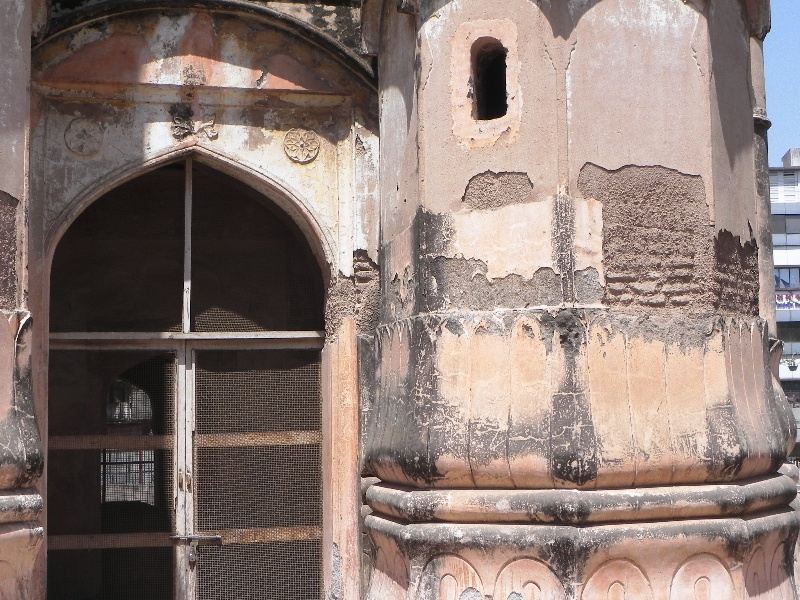Exposed Bricks: (602, 250, 697, 308), (715, 240, 756, 311), (355, 251, 376, 307)
Spalling: (576, 157, 710, 227), (434, 255, 597, 311), (459, 164, 537, 211)
